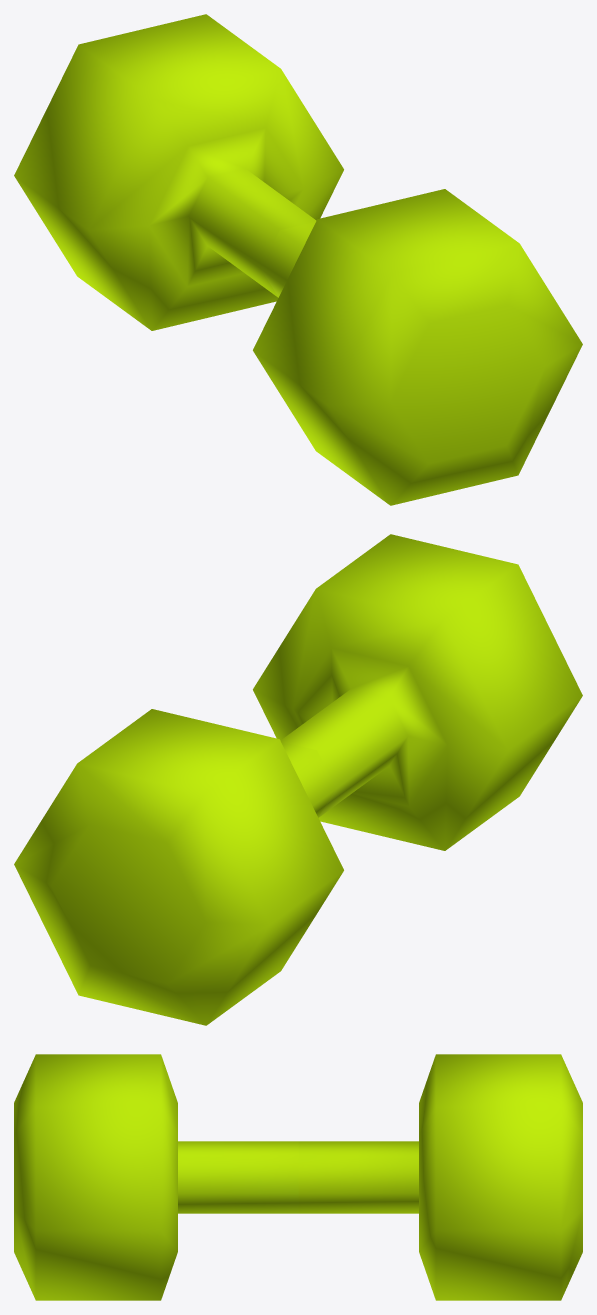
Rendered from DumbellMedium.glb.
3 renders of one model, top to bottom at view 1: azimuth 30°, elevation 25°; view 2: azimuth 150°, elevation 25°; view 3: azimuth 270°, elevation 25°, orthographic. The views are drawn at different scales.
Visible parts, largest first — view 1: DumbellMedium; view 2: DumbellMedium; view 3: DumbellMedium.
Part boxes in pixels (bbox=[...]): DumbellMedium: bbox=[14, 14, 582, 505]; DumbellMedium: bbox=[14, 534, 582, 1025]; DumbellMedium: bbox=[14, 1054, 582, 1300].
Size of the model in its own units: 0.164 by 0.1425 by 0.3774.
Materials: 1 (1 with a texture image).
